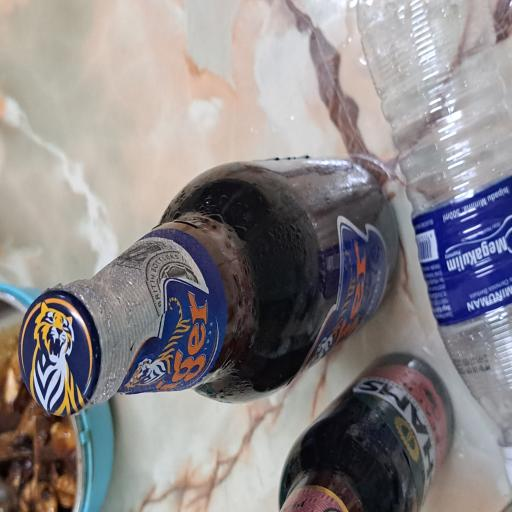glass bottle: (68, 26, 268, 512), (0, 366, 119, 512)
